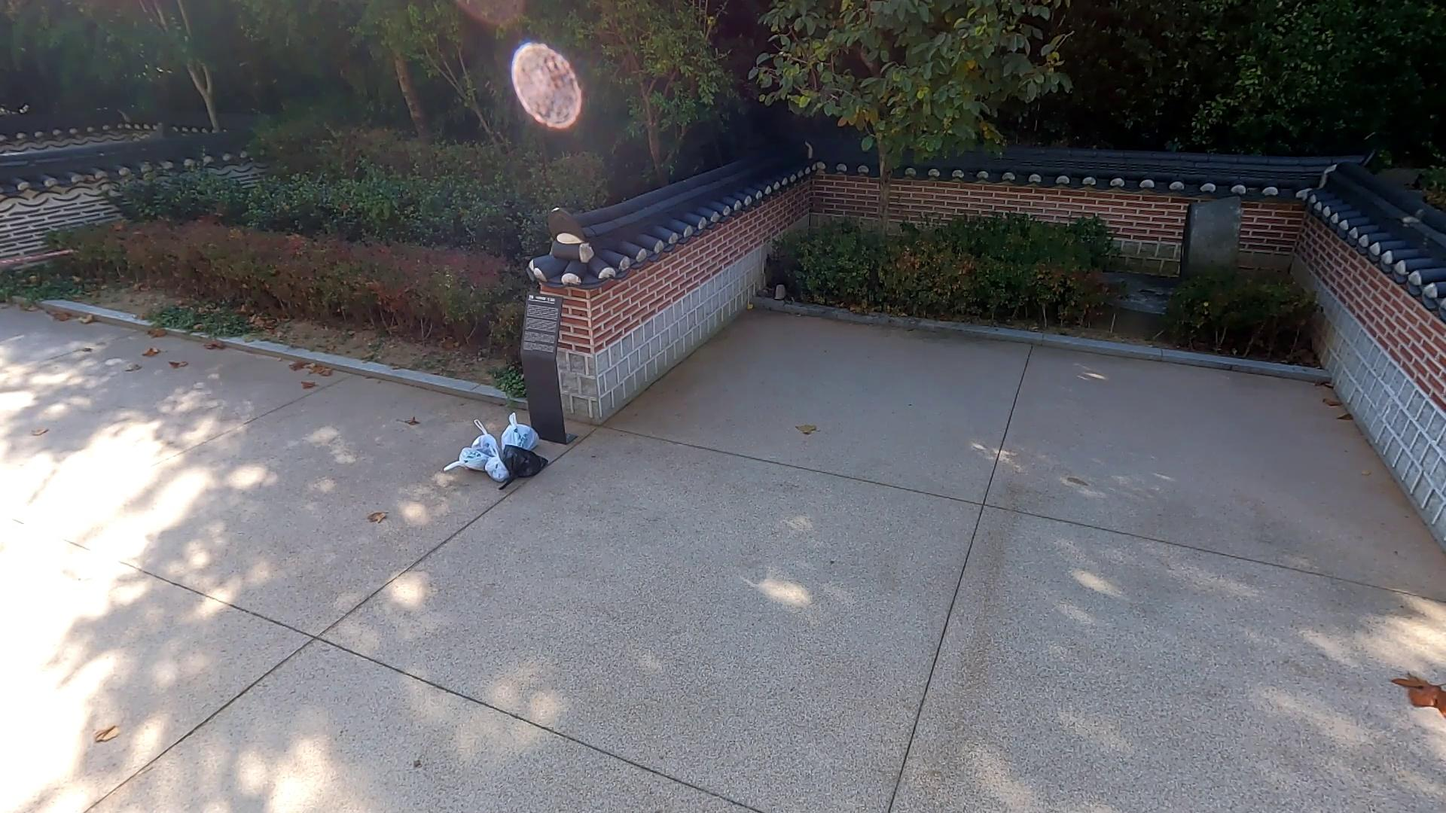trash: (502, 444, 547, 491), (500, 410, 542, 454), (442, 445, 489, 474), (465, 417, 498, 452), (481, 447, 507, 486)
